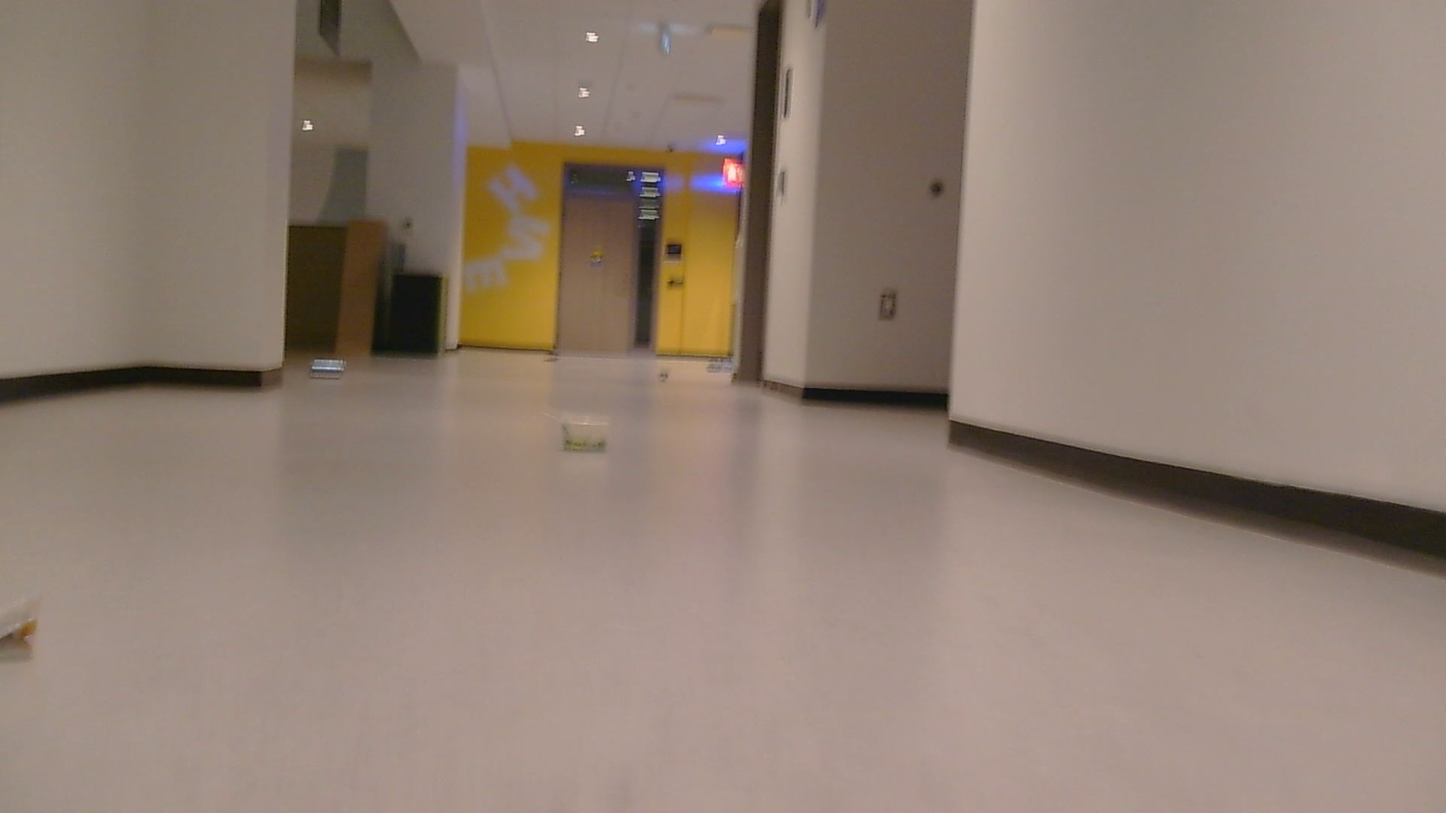carton: (542, 406, 627, 456), (0, 592, 51, 656), (306, 355, 354, 385), (542, 342, 559, 367), (703, 358, 736, 366), (660, 367, 679, 377)
